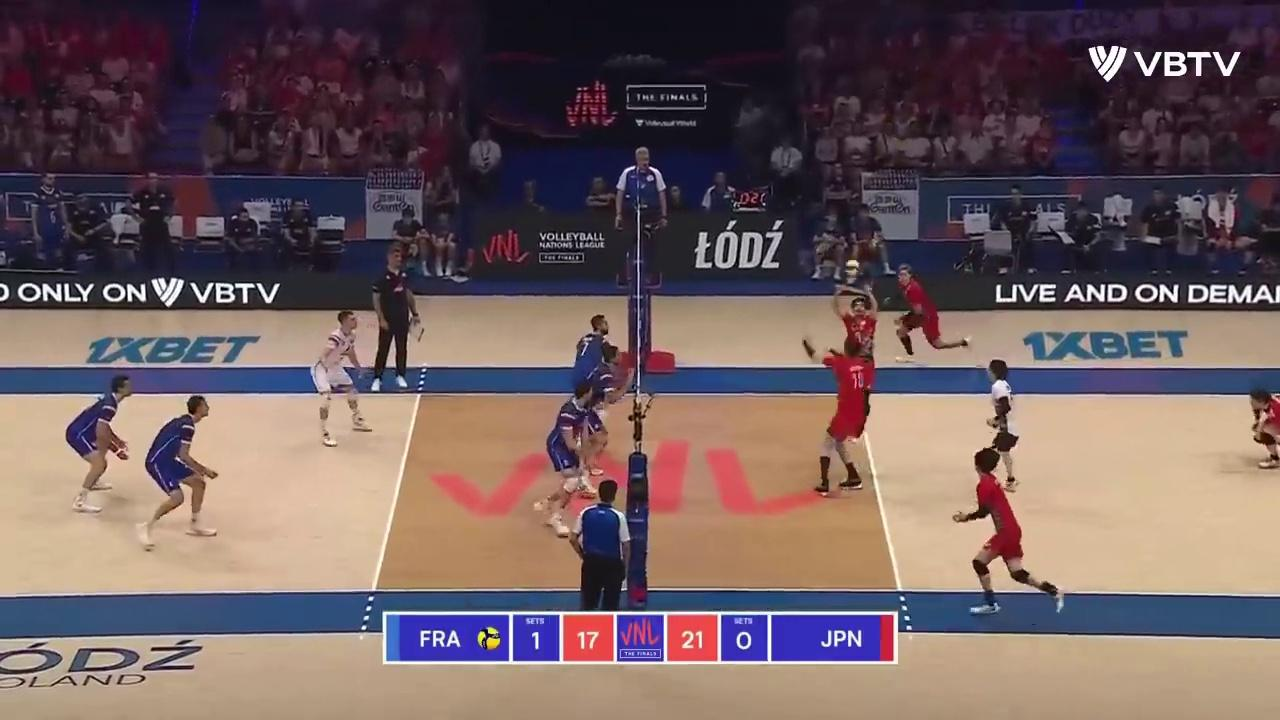ball: (843, 260, 860, 281)
